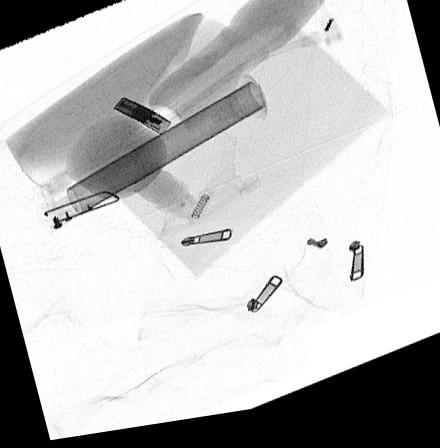Lighter: (113, 101, 171, 140)
